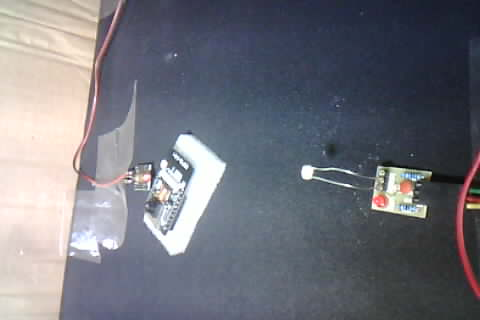esp32: (143, 126, 217, 251)
